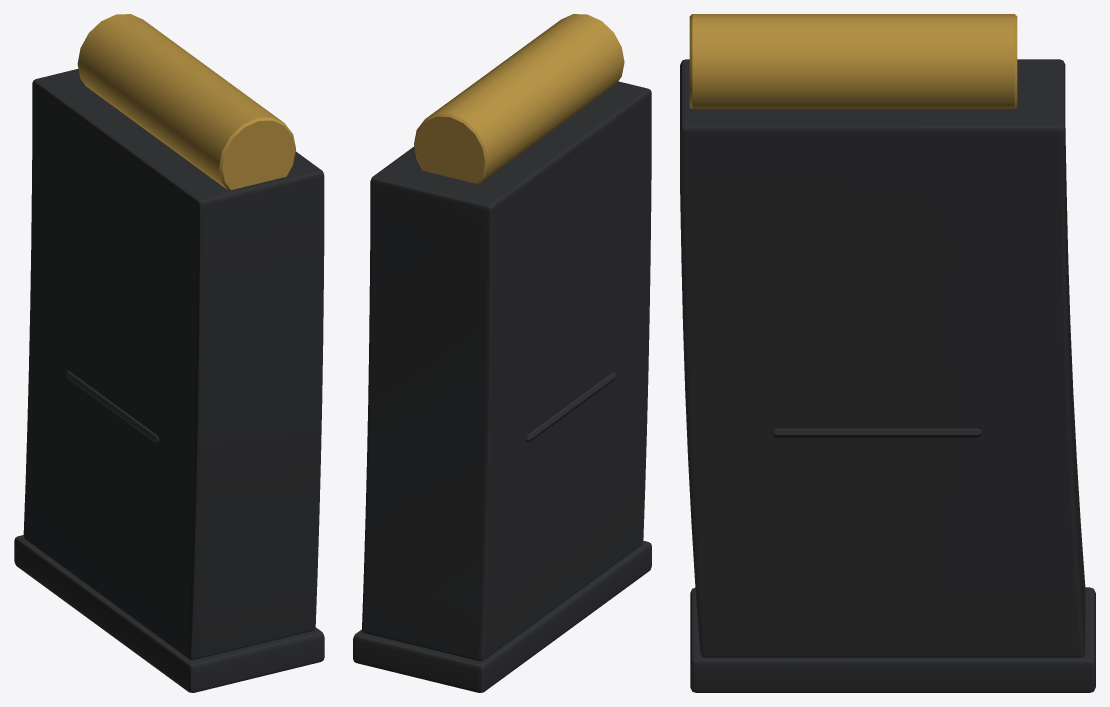
Rendered from mod_harrow_standard_mag.glb.
3 renders of one model, left to right at view 1: azimuth 30°, elevation 25°; view 2: azimuth 150°, elevation 25°; view 3: azimuth 270°, elevation 25°, orthographic. The views are drawn at different scales.
Visible parts, largest first — view 1: Magazine, MagazineRound; view 2: Magazine, MagazineRound; view 3: Magazine, MagazineRound.
Part boxes in pixels (x1,y1,x2,y2): Magazine: [14, 69, 324, 692]; MagazineRound: [77, 14, 295, 190]; Magazine: [353, 81, 651, 692]; MagazineRound: [414, 14, 624, 183]; Magazine: [680, 59, 1095, 692]; MagazineRound: [689, 14, 1017, 108].
Size of the model in its own units: 0.0354 by 0.139 by 0.082.
